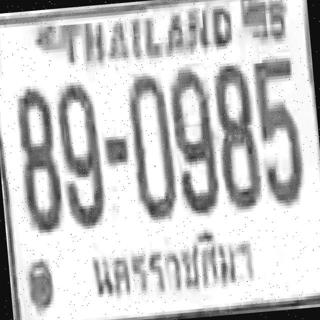N00: (126, 72, 178, 219)
N05: (252, 58, 304, 205)
N08: (212, 62, 262, 208), (14, 86, 63, 233)
N09: (56, 82, 108, 232), (168, 66, 219, 213)
P30: (82, 223, 261, 305)
